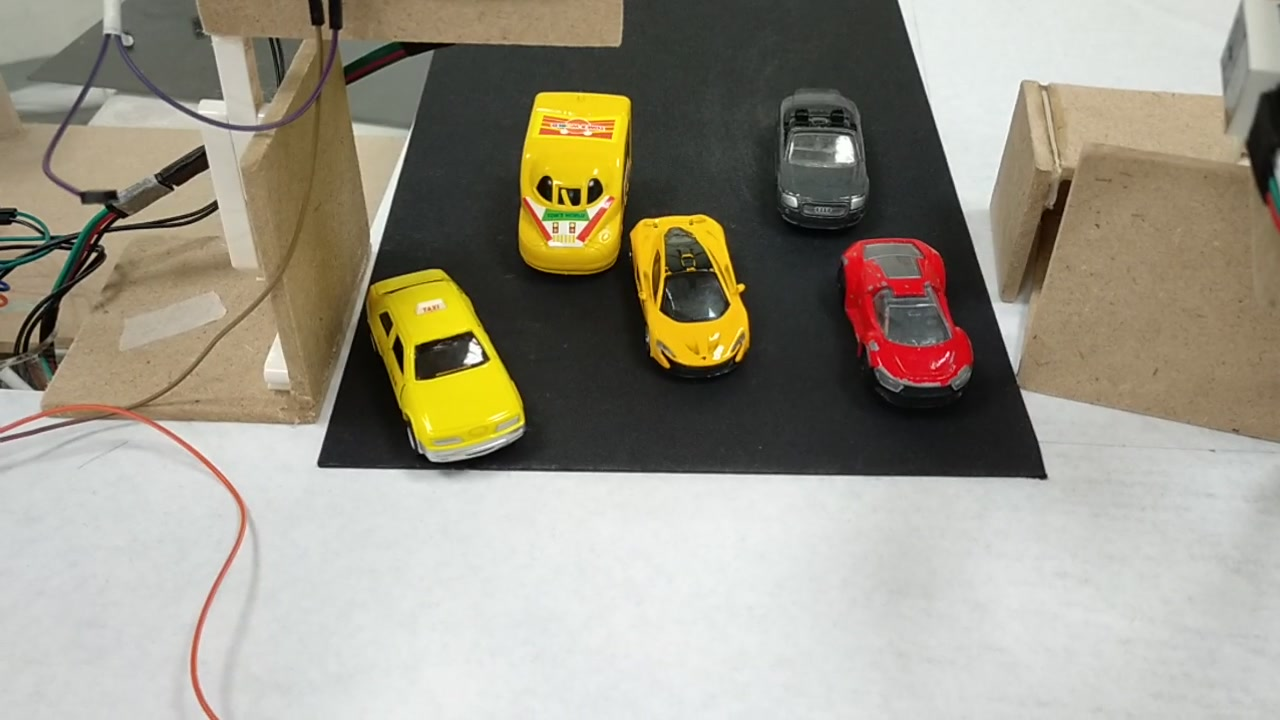car: (359, 276, 525, 468), (840, 233, 975, 405), (626, 215, 755, 382), (773, 86, 866, 228)
